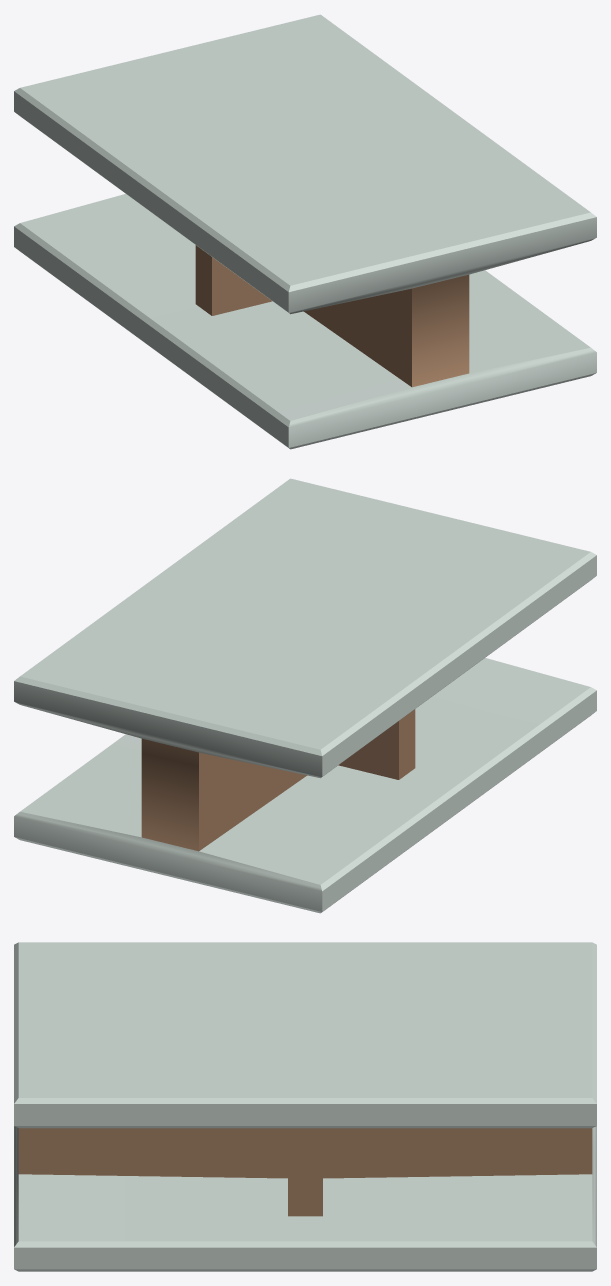
Rendered from Sala_CoffeeTable_01.fbx.
The picture shows the model from 3 angles, top to bottom: view 1: azimuth 30°, elevation 25°; view 2: azimuth 150°, elevation 25°; view 3: azimuth 270°, elevation 25°; orthographic projection. The views are drawn at different scales.
Visible parts, largest first — view 1: coffee table001; view 2: coffee table001; view 3: coffee table001.
Boxes of the visible parts, x1,y1,x2,y2 form: coffee table001: (14,14,596,449); coffee table001: (14,478,596,913); coffee table001: (14,942,596,1271).
Size of the model in its own units: 51.16 by 25.97 by 79.01.
2 materials, 2 textured.
